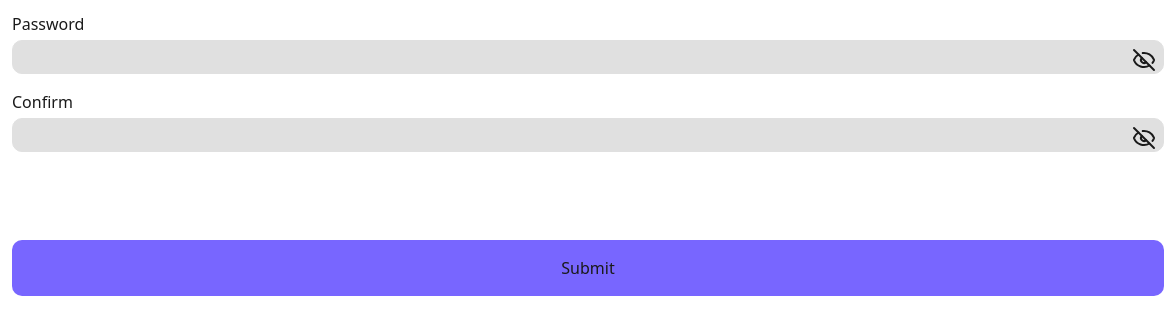
Test case: Form › re-checks a cross-field rule when the other side changes
Type "hunter2" into the password field labelled "Confirm".
click(588, 135); type("hunter2")  # box [12,118,1164,152]
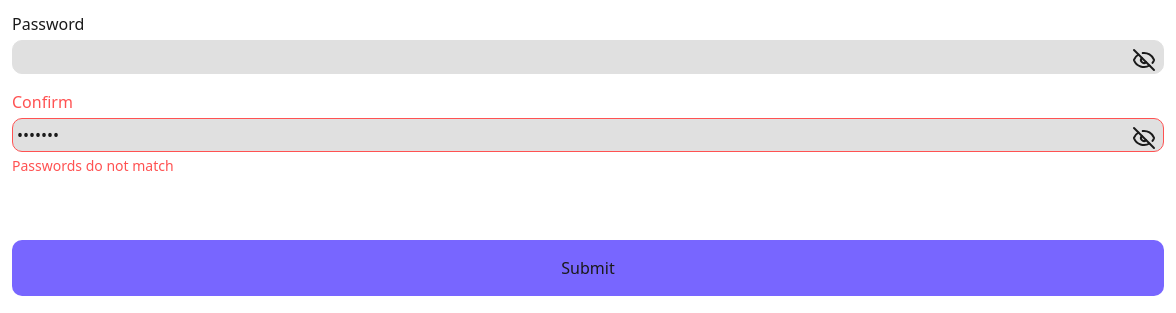
Check: the message reads "Passwords do not match", box [12,156,174,175]
Type "hunter2" into the password field labelled "Password".
click(588, 57); type("hunter2")  # box [12,40,1164,74]
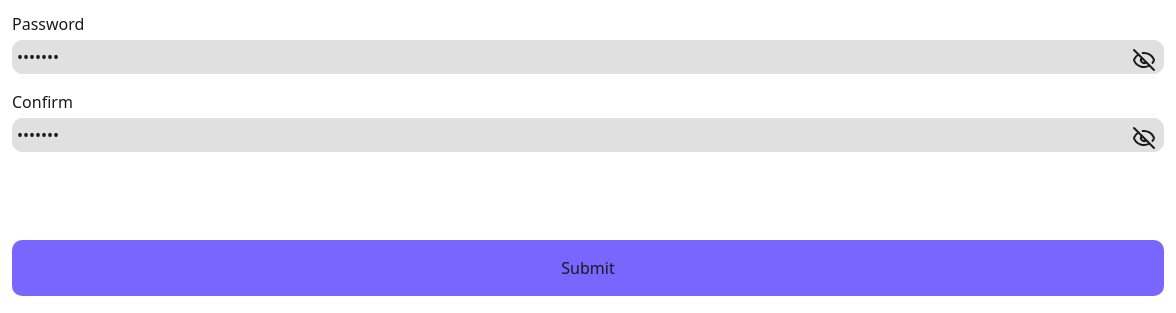
Check: the message "Passwords do not match" is gone
